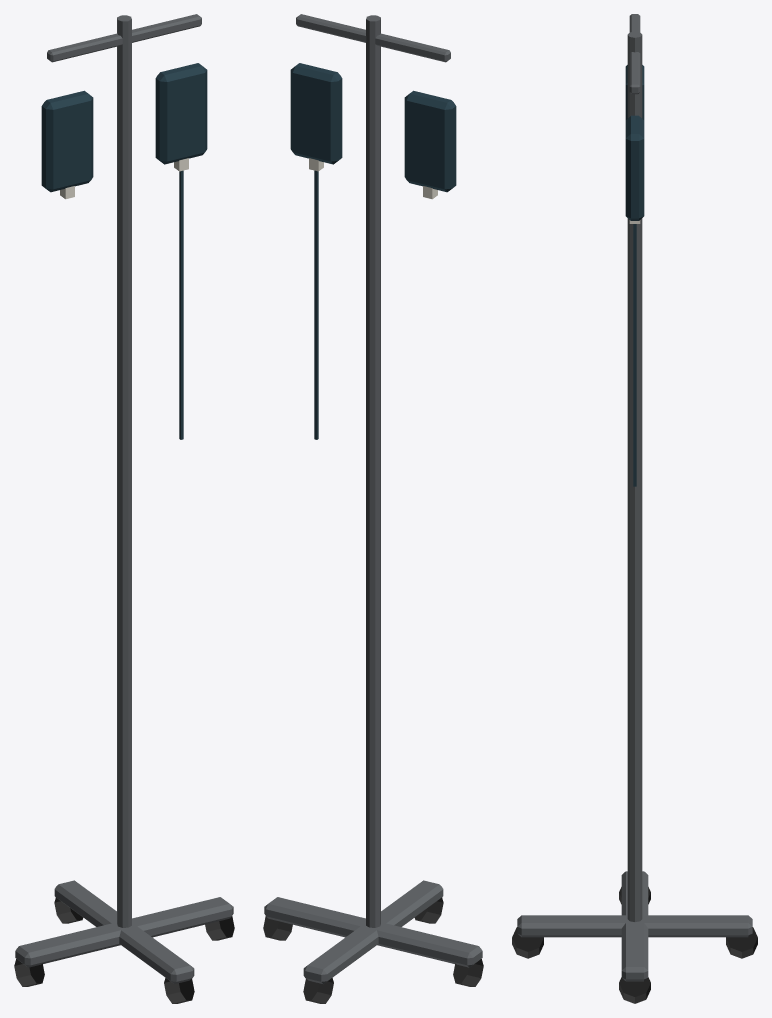
Rendered from iv_stand.glb.
3 views of the same model, side by side, from view 1: azimuth 30°, elevation 25°; view 2: azimuth 150°, elevation 25°; view 3: azimuth 270°, elevation 25° (orthographic). The views are drawn at different scales.
Parts seen in each view (by area): view 1: iv_stand; view 2: iv_stand; view 3: iv_stand.
Part boxes in pixels (x1,y1,x2,y2): iv_stand: (14, 14, 234, 1003); iv_stand: (263, 14, 483, 1003); iv_stand: (512, 14, 757, 1003).
Size of the model in its own units: 0.44 by 1.9 by 0.46.
